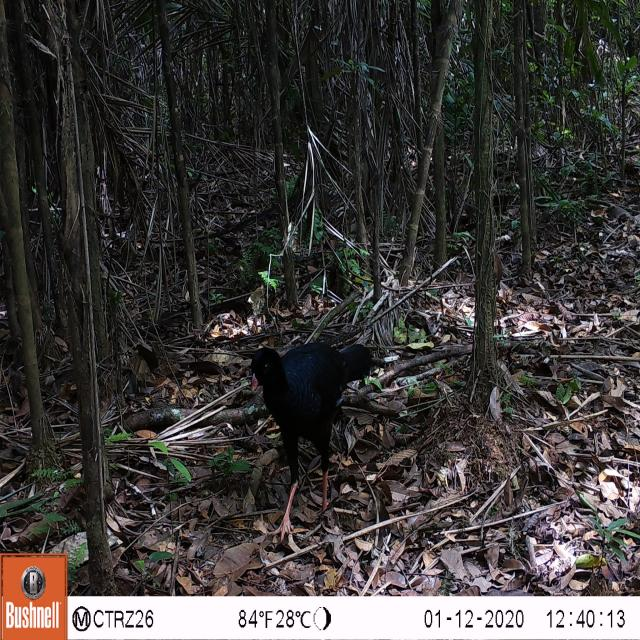Salvins Curassow: (235, 314, 388, 562)
